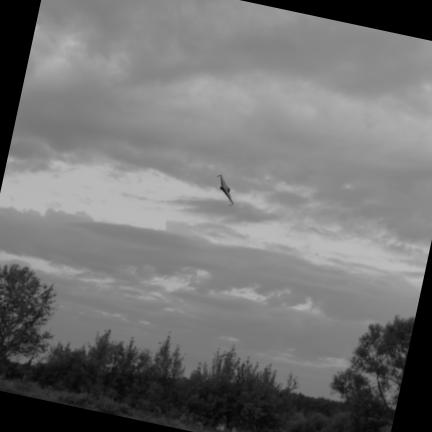Shahed: (216, 173, 234, 207)
